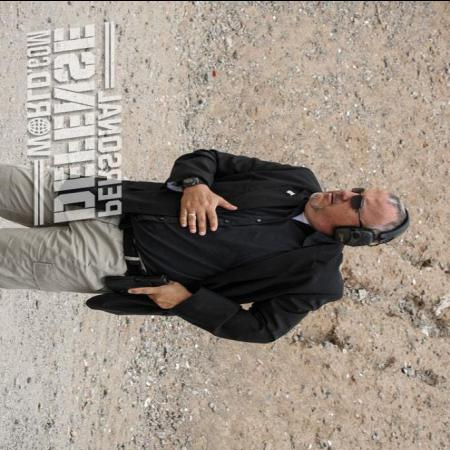Pistol: (103, 274, 172, 300)
